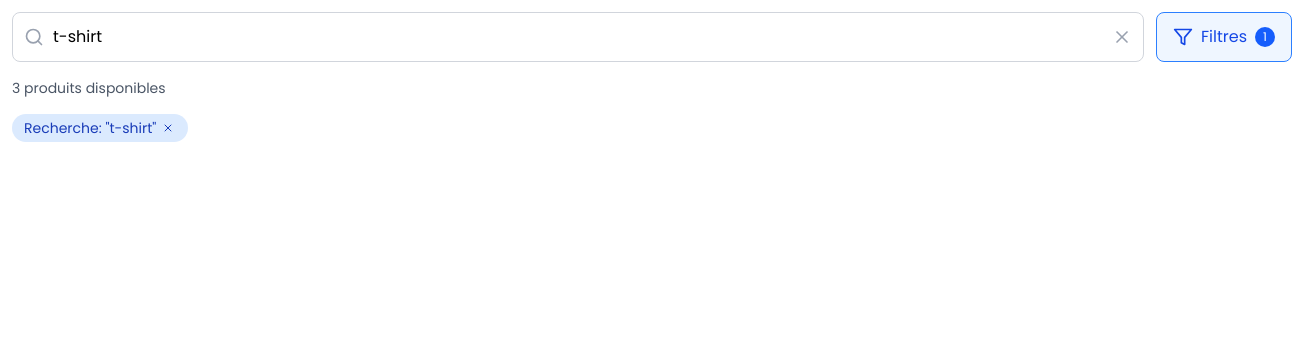
Test: ProductFilters Component › Filtres avancés › affiche le bouton 'Effacer tout' quand il y a des filtres actifs
This screenshot has width=1304, height=357.
Click the text "Filtres" at (1224, 37), box [1201,25,1247,49]
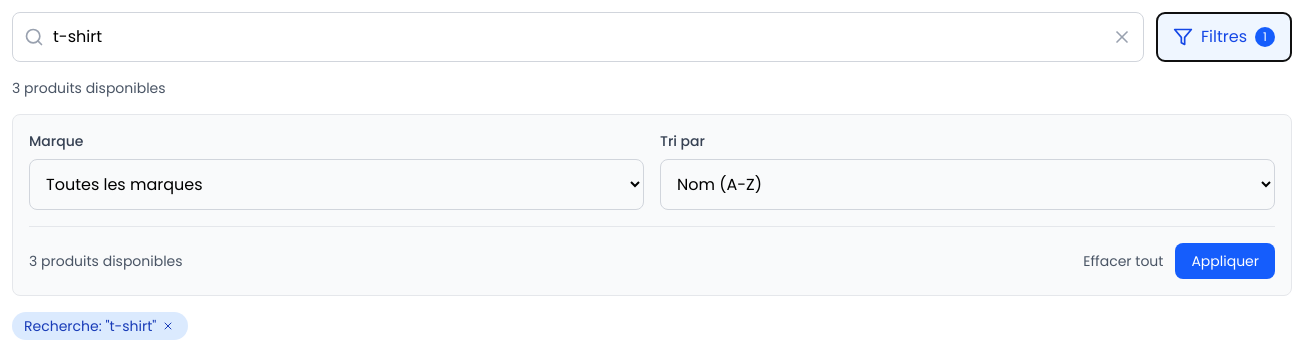
Check: the button with test id "clear-filters" is shown, box [1083,243,1163,279]
